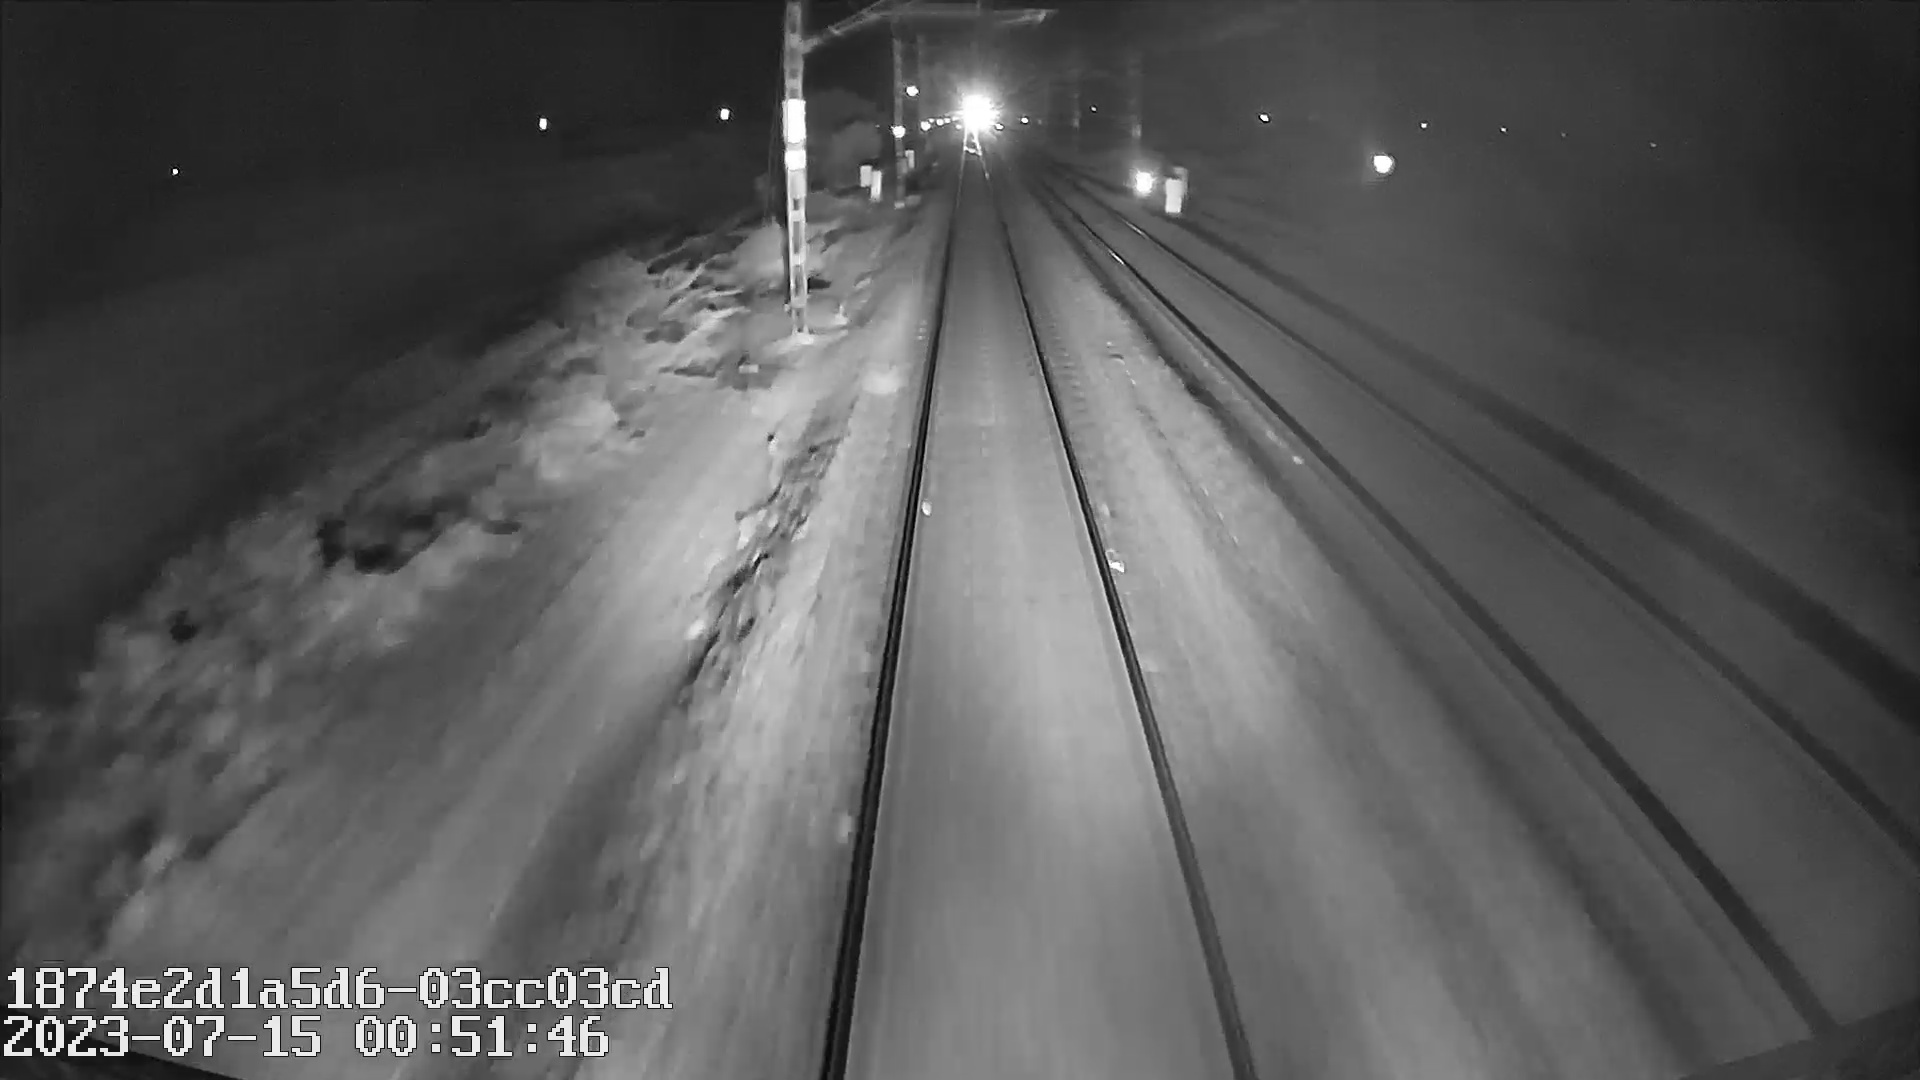track1: (836, 186, 1244, 1059)
track2: (1056, 190, 1907, 949)
